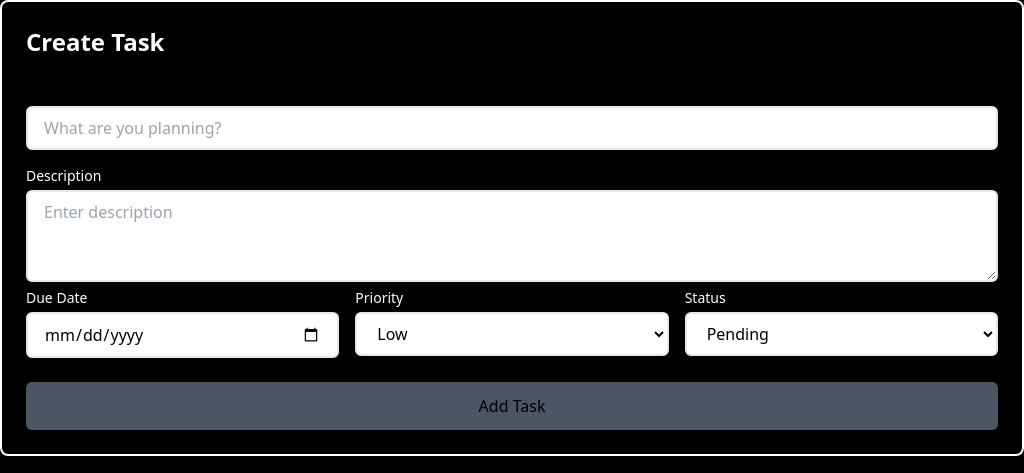
Test: TaskForm › submit button is enabled when required fields are filled
The width and height of the screenshot is (1024, 473).
Type "Test Task" into the field labelled "Title" at (512, 128), box [26,106,998,150]
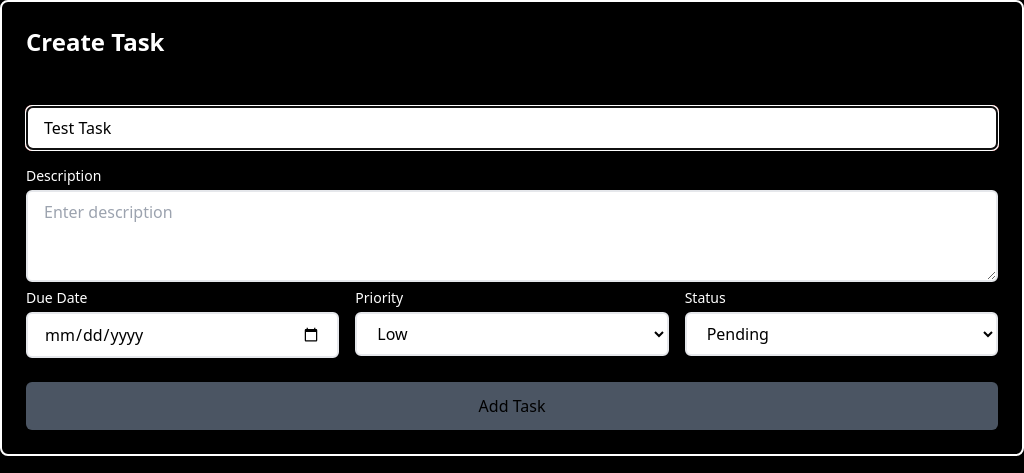
Type "2025-01-20" into the date field labelled "Due Date" at (183, 335), box [26,312,339,358]
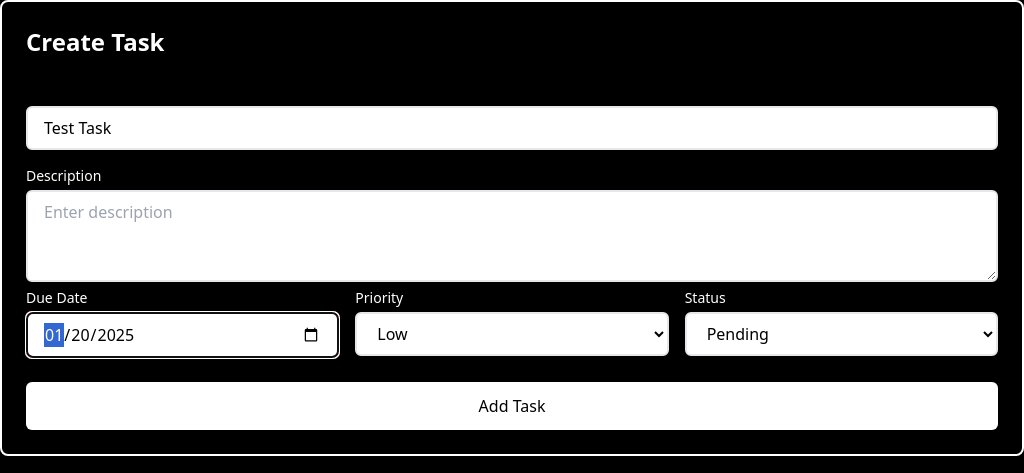
Result: the button "Add Task" is enabled at [26,382,998,430]
